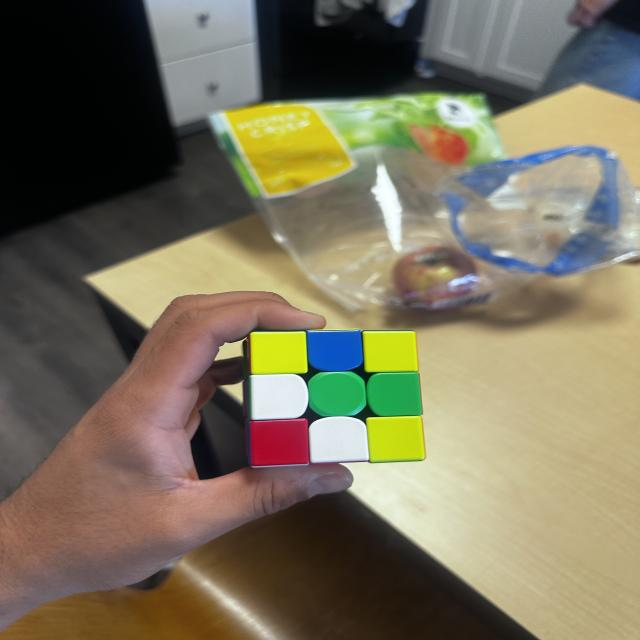sticker: (246, 416, 313, 469), (245, 372, 311, 423), (246, 329, 311, 377), (306, 370, 369, 419), (307, 415, 369, 464), (365, 415, 426, 464), (304, 328, 366, 375), (364, 371, 424, 419), (360, 330, 419, 375)
